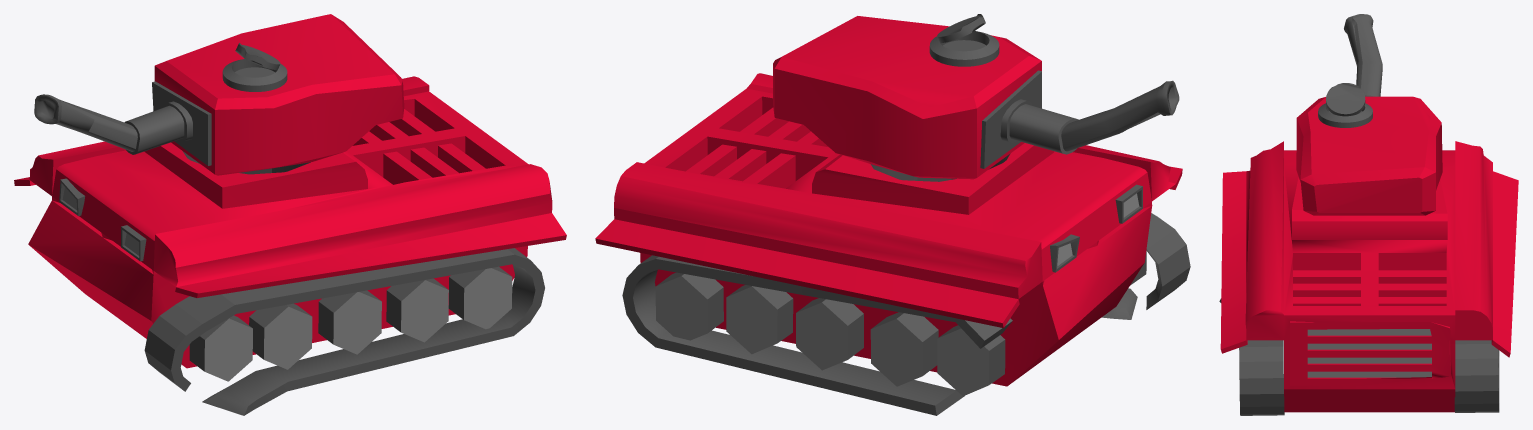
Rendered from broken_tank_enemy.fbx.
3 views of the same model, side by side, from view 1: azimuth 30°, elevation 25°; view 2: azimuth 150°, elevation 25°; view 3: azimuth 270°, elevation 25° (orthographic). The views are drawn at different scales.
Parts seen in each view (by area): view 1: Body, Head, wheels, wheels.001, wheels.002, wheels.003; view 2: Body, Head, wheels, wheels.004, wheels.005, wheels.006; view 3: Body, Head, wheels.
Part boxes in pixels (bbox=[...]): Body: bbox=[14, 76, 566, 368]; Head: bbox=[34, 14, 404, 175]; wheels: bbox=[144, 248, 544, 415]; wheels.001: bbox=[249, 303, 312, 369]; wheels.002: bbox=[318, 290, 381, 354]; wheels.003: bbox=[448, 266, 512, 329]; Body: bbox=[595, 73, 1182, 386]; Head: bbox=[773, 14, 1179, 179]; wheels: bbox=[622, 213, 1190, 415]; wheels.004: bbox=[870, 312, 938, 386]; wheels.005: bbox=[796, 298, 863, 370]; wheels.006: bbox=[655, 272, 723, 340]; Body: bbox=[1220, 141, 1518, 412]; Head: bbox=[1296, 14, 1442, 215]; wheels: bbox=[1219, 298, 1499, 415].
Size of the model in its own units: 854 by 535 by 583.
